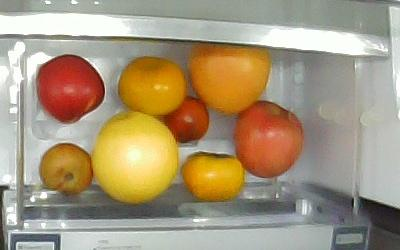apple: (234, 101, 304, 179), (37, 54, 105, 124)
grapefruit: (92, 110, 177, 202), (188, 42, 270, 113)
persimmon: (117, 56, 186, 115), (181, 151, 245, 201)
prune: (39, 142, 93, 194), (163, 96, 209, 142)
